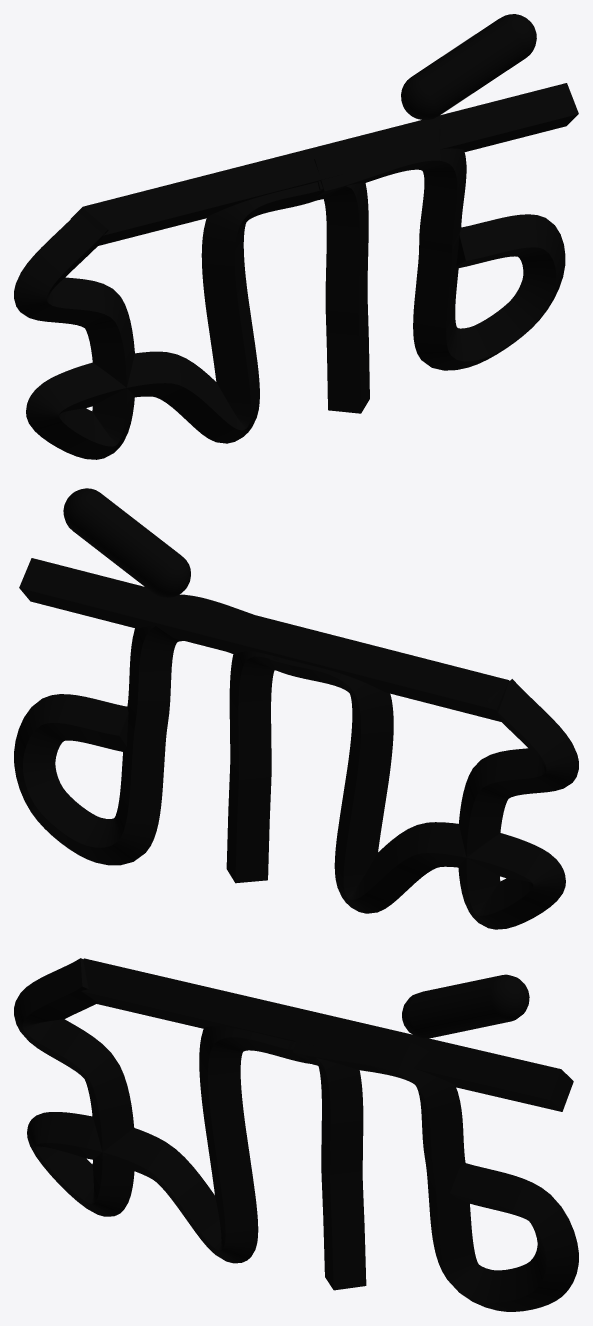
File: march.glb
3 views of the same model, one above another, from view 1: azimuth 30°, elevation 25°; view 2: azimuth 150°, elevation 25°; view 3: azimuth 330°, elevation 25° (orthographic).
Visible parts, largest first — view 1: mesh_id35, mesh_id57, mesh_id84, mesh_id43, mesh_id71; view 2: mesh_id35, mesh_id57, mesh_id84, mesh_id43, mesh_id71; view 3: mesh_id35, mesh_id57, mesh_id84, mesh_id43, mesh_id71.
Boxes of the visible parts, x1=… form: mesh_id35: x1=14, y1=182, x2=322, y2=459; mesh_id57: x1=314, y1=127, x2=565, y2=370; mesh_id84: x1=71, y1=83, x2=578, y2=245; mesh_id43: x1=315, y1=181, x2=369, y2=413; mesh_id71: x1=401, y1=14, x2=536, y2=120; mesh_id35: x1=269, y1=655, x2=578, y2=929; mesh_id57: x1=14, y1=594, x2=252, y2=865; mesh_id84: x1=19, y1=558, x2=509, y2=722; mesh_id43: x1=226, y1=651, x2=278, y2=883; mesh_id71: x1=63, y1=488, x2=190, y2=597; mesh_id35: x1=14, y1=958, x2=310, y2=1263; mesh_id57: x1=292, y1=1020, x2=578, y2=1311; mesh_id84: x1=81, y1=958, x2=573, y2=1111; mesh_id43: x1=291, y1=1041, x2=366, y2=1290; mesh_id71: x1=402, y1=974, x2=529, y2=1038.
Size of the model in its own units: 0.8034 by 0.4903 by 0.1052.
5 materials, 5 textured.
